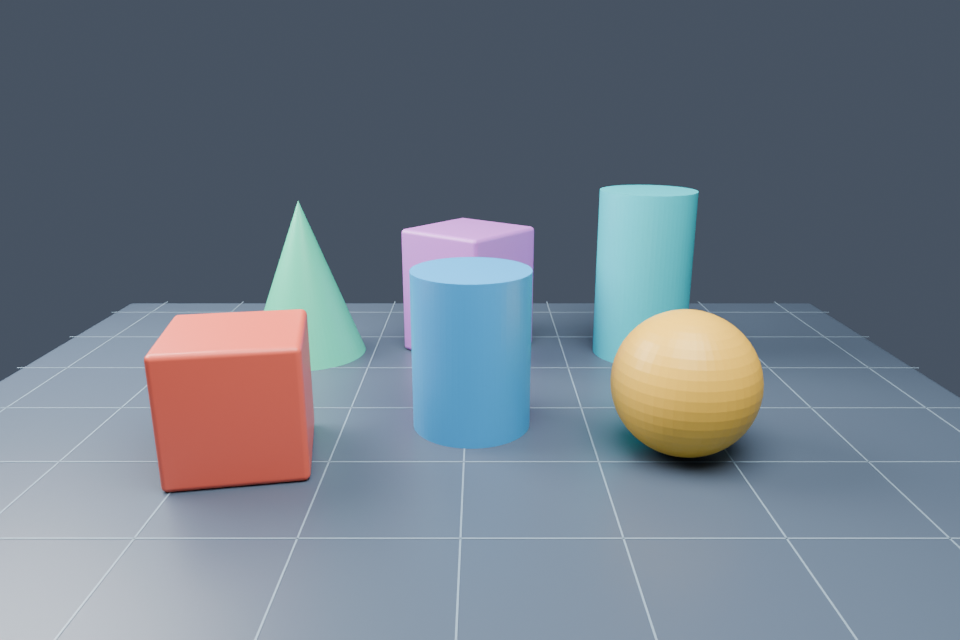cone: (264, 201, 366, 371)
cube: (144, 309, 314, 492), (402, 218, 534, 350)
cylinder: (409, 257, 533, 449), (593, 185, 699, 363)
sphere: (610, 309, 764, 458)
